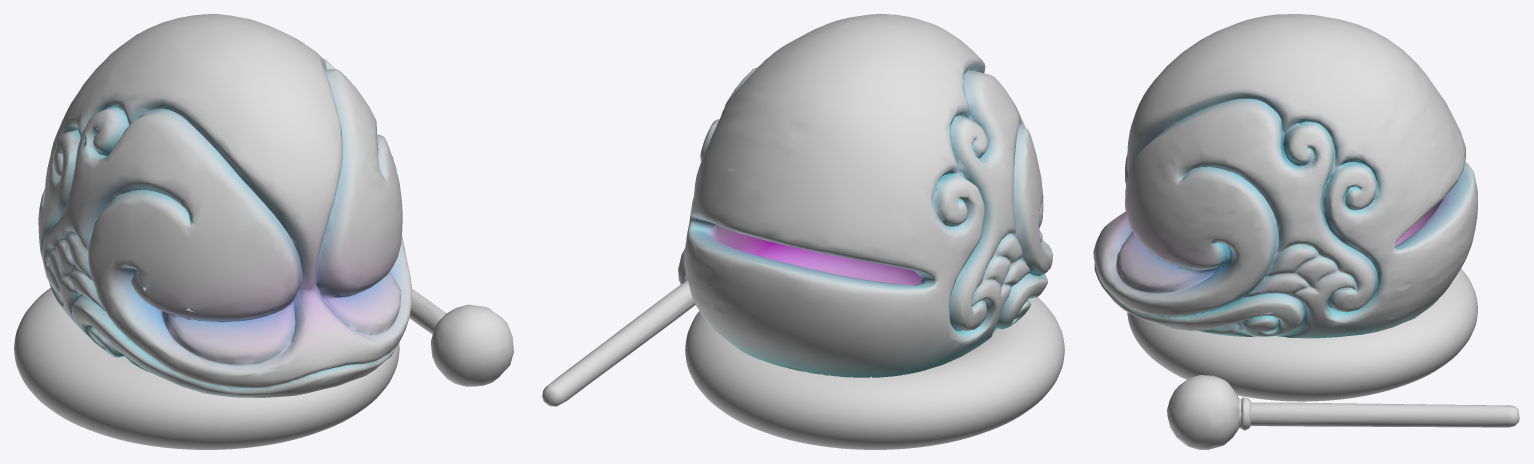
File: wooden-fish.glb
3 views of the same model, side by side, from view 1: azimuth 30°, elevation 25°; view 2: azimuth 150°, elevation 25°; view 3: azimuth 270°, elevation 25° (orthographic). The views are drawn at different scales.
Parts seen in each view (by area): view 1: Fish, Cushion, MalletHead, MalletHandle; view 2: Fish, Cushion, MalletHandle; view 3: Fish, Cushion, MalletHandle, MalletHead.
Part boxes in pixels (x1,y1,x2,y2): Fish: [38, 14, 411, 397]; Cushion: [14, 288, 399, 449]; MalletHead: [431, 304, 513, 386]; MalletHandle: [409, 289, 446, 334]; Fish: [684, 14, 1052, 377]; Cushion: [685, 297, 1064, 449]; MalletHandle: [542, 280, 695, 406]; Fish: [1093, 14, 1477, 338]; Cushion: [1127, 268, 1477, 401]; MalletHandle: [1250, 402, 1519, 427]; MalletHead: [1167, 375, 1251, 449].
Bounding box in the file's own units: 0.9958 × 0.8365 × 0.975.
